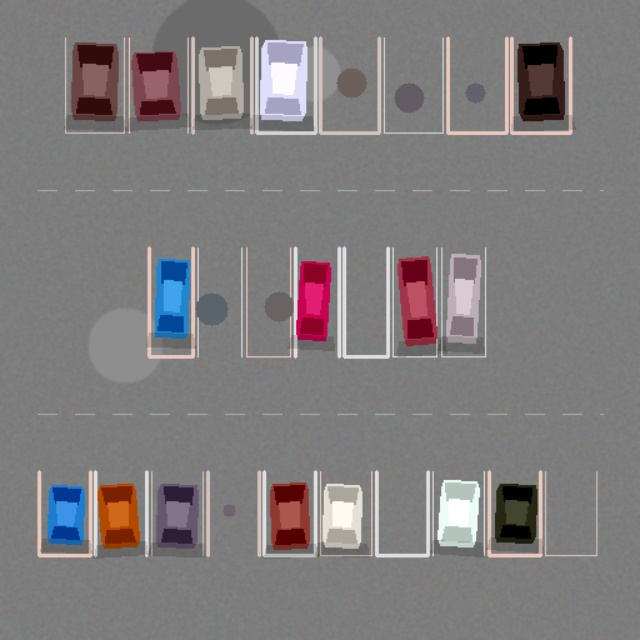space-empty: (320, 37, 379, 132), (384, 37, 443, 132), (447, 37, 506, 132), (197, 248, 241, 356), (246, 248, 290, 356), (344, 248, 387, 356), (376, 471, 428, 555), (208, 471, 259, 555), (545, 471, 596, 555)
space-occupied: (65, 37, 124, 132), (256, 37, 315, 132), (511, 37, 570, 132), (129, 37, 187, 132), (193, 37, 251, 132), (149, 248, 193, 356), (295, 248, 339, 356), (441, 248, 485, 356), (393, 248, 436, 356), (432, 471, 484, 555), (39, 471, 90, 555), (95, 471, 146, 555), (151, 471, 202, 555), (264, 471, 315, 555), (320, 471, 371, 555), (489, 471, 540, 555)
